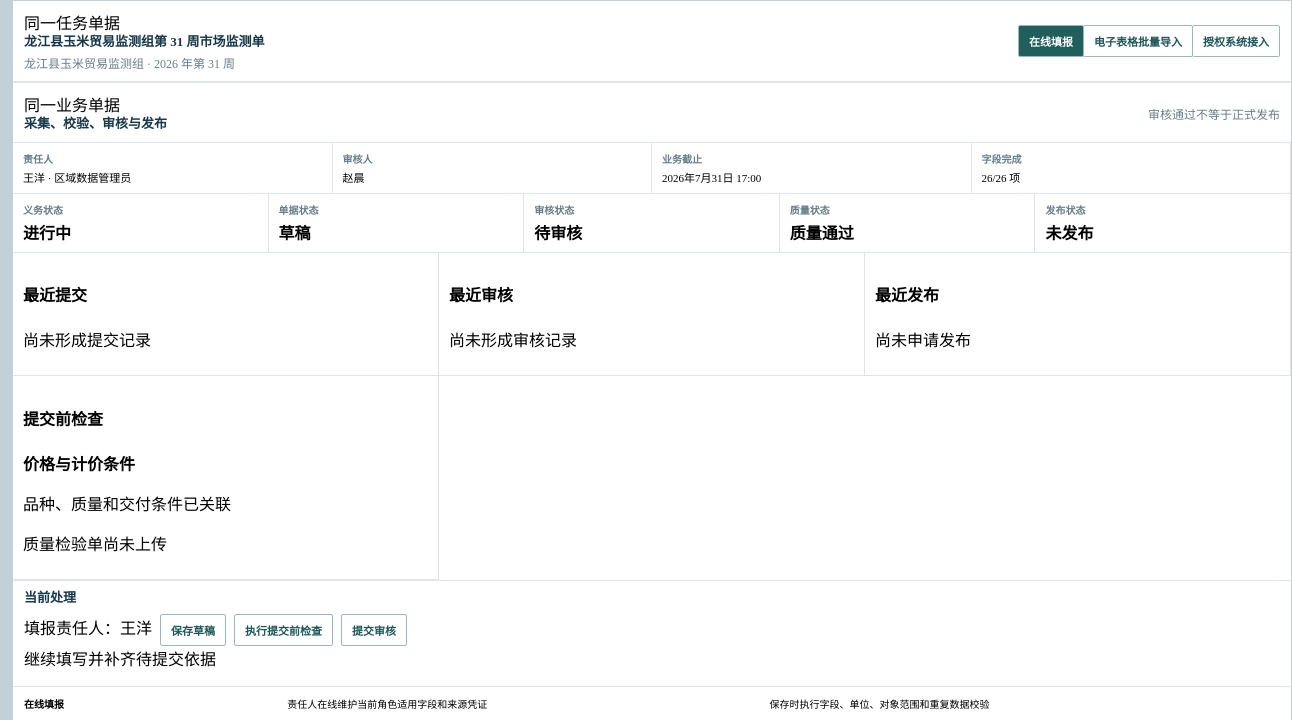
Test case: market document workbench lifecycle actions › checks configured system records before sync and does not claim a write
Click the button "授权系统接入" at (1236, 41), box [1192, 25, 1280, 57]
(page scrolled)
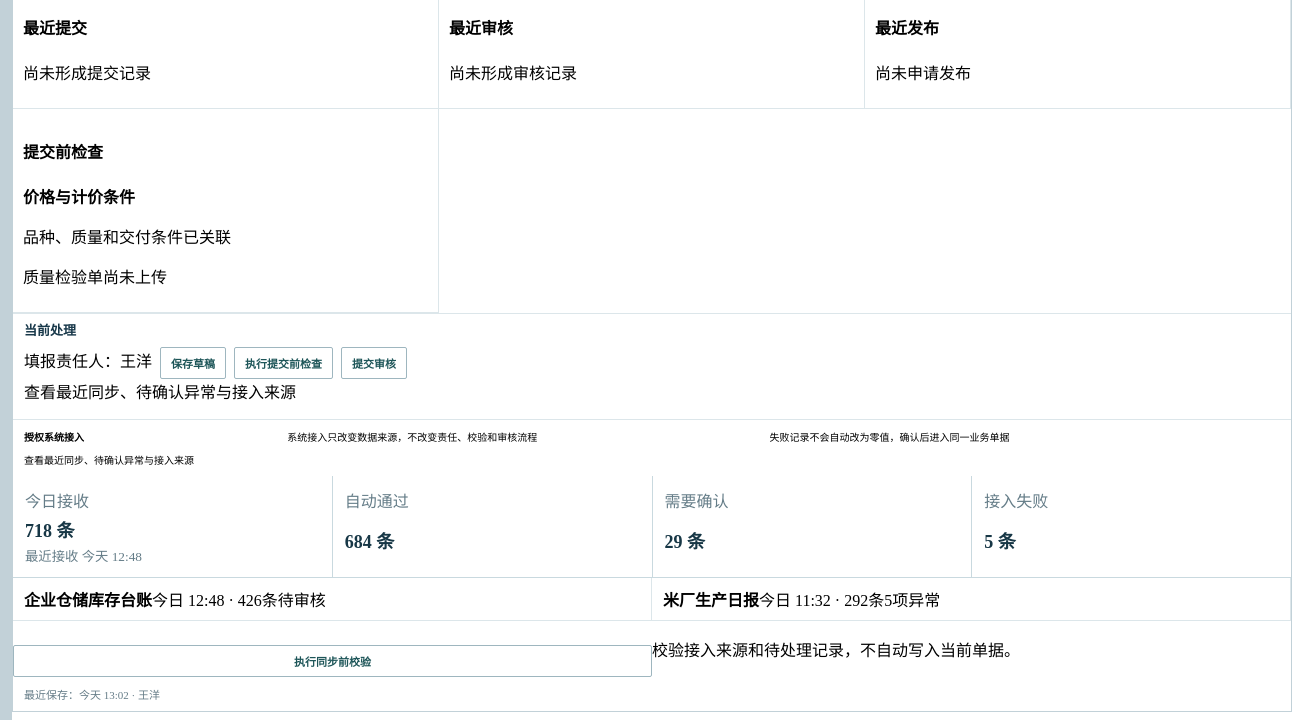
Expected: the text "企业仓储库存台账" is shown, [24, 592, 152, 609]
Expected: the element named "授权系统接入汇总" reads "今日接收 718 条 最近接收 今天 12:48 自动通过 684 条 需要确认 29 条 接入失败 5 条", [13, 476, 1291, 578]
Click the button "执行同步前校验" at (332, 661), box [13, 645, 652, 677]
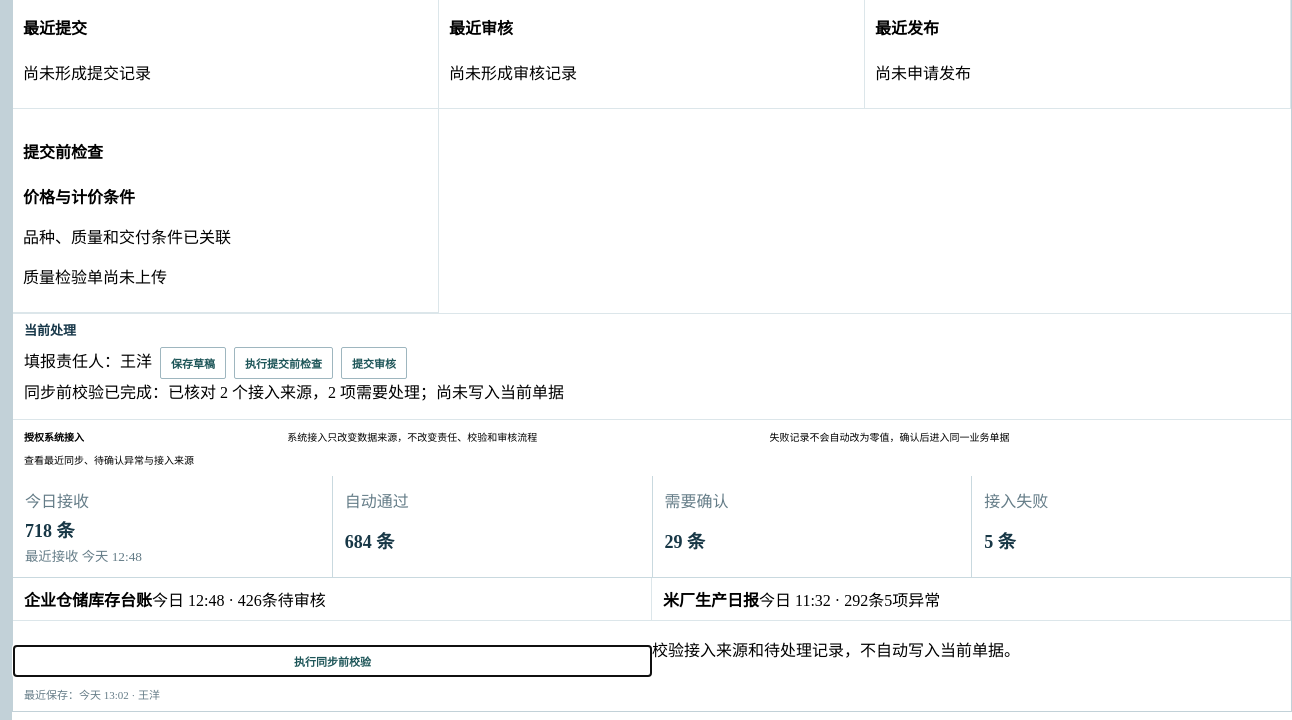
Expected: the message shows "同步前校验已完成：已核对 2 个接入来源", [24, 384, 564, 401]
Expected: the message shows "尚未写入当前单据", [24, 384, 564, 401]
